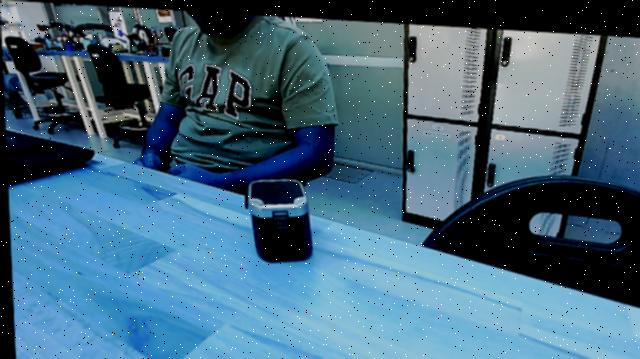adapter: (238, 164, 318, 269)
